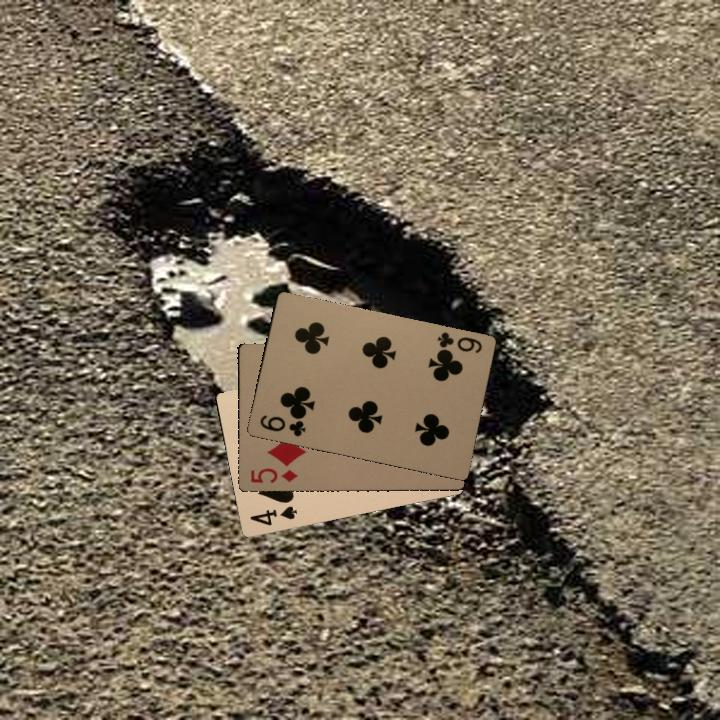4s: (246, 502, 300, 528)
5d: (247, 464, 300, 485)
6c: (433, 328, 485, 357), (256, 411, 308, 439)
